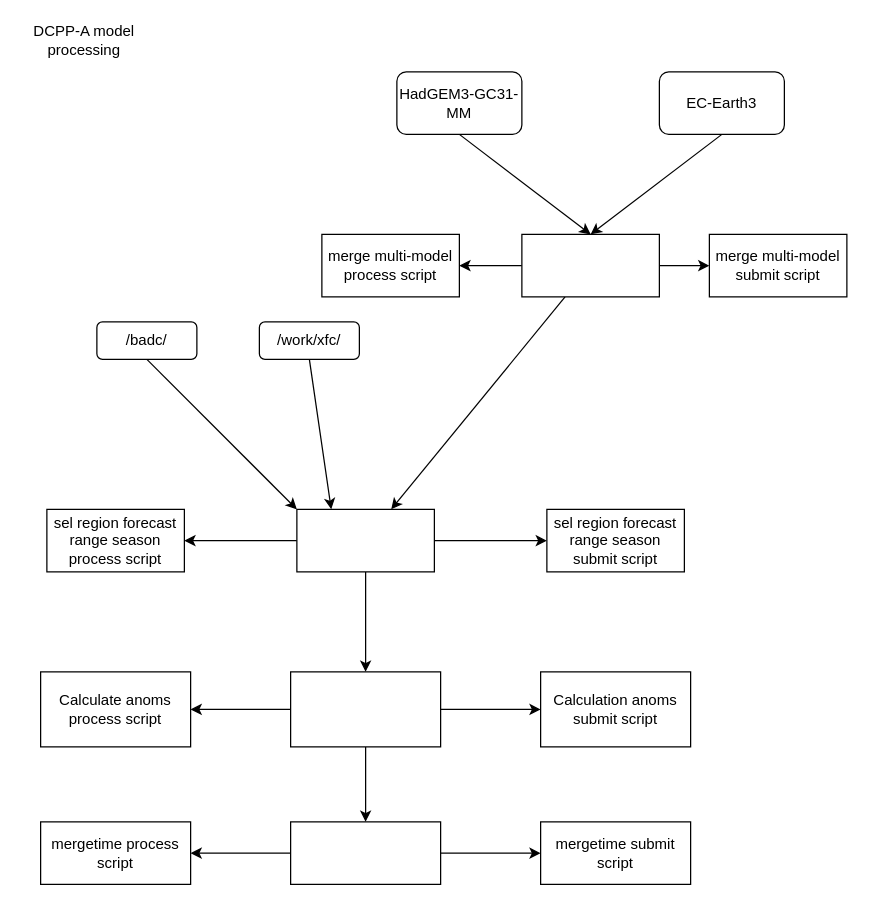
Some shapes in this 869 by 906 pixel diagram are drawn without their labels. Here are the shapes that lost their labels. From the top down, the box of each, then its label:
(521, 233, 659, 297): merge multi-model
(296, 508, 434, 572): sel region forecast range season
(289, 671, 441, 747): Remove model mean state to give anoms
(289, 821, 441, 884): mergetime to create dataset 1960-2014
